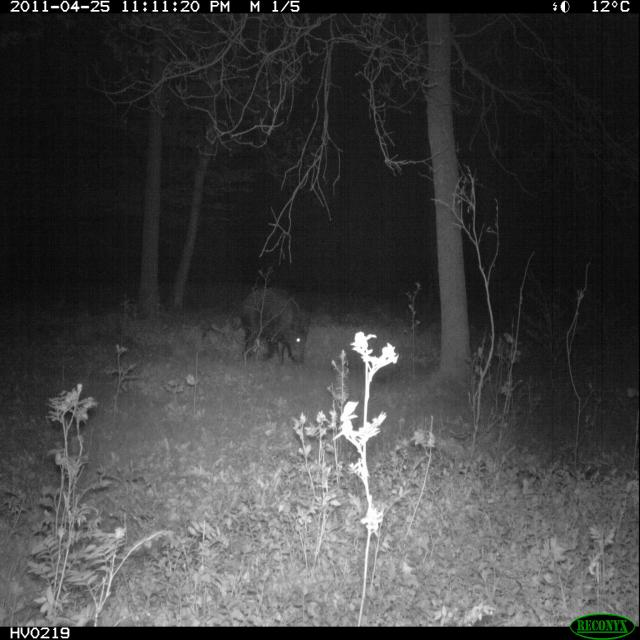boar: (206, 234, 320, 411)
